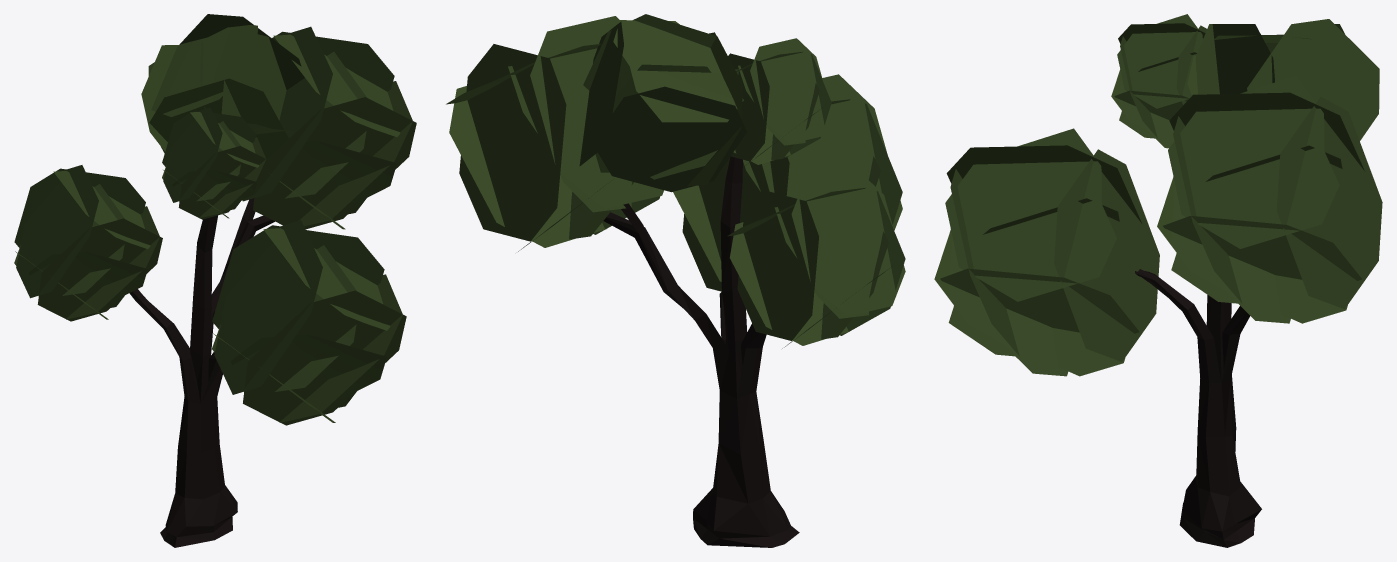
Rendered from tree_01.FBX.
3 renders of one model, left to right at view 1: azimuth 30°, elevation 25°; view 2: azimuth 150°, elevation 25°; view 3: azimuth 270°, elevation 25°, orthographic. The views are drawn at different scales.
Visible parts, largest first — view 1: leaf_blob_02, tree_base_002; view 2: leaf_blob_02, tree_base_002; view 3: leaf_blob_02, tree_base_002.
Boxes of the visible parts, x1=… form: leaf_blob_02: x1=14, y1=14, x2=416, y2=425; tree_base_002: x1=129, y1=198, x2=274, y2=547; leaf_blob_02: x1=446, y1=14, x2=905, y2=348; tree_base_002: x1=603, y1=156, x2=799, y2=547; leaf_blob_02: x1=934, y1=14, x2=1382, y2=376; tree_base_002: x1=1135, y1=269, x2=1261, y2=547.
Bounding box in the file's own units: 544 × 646 × 479.
